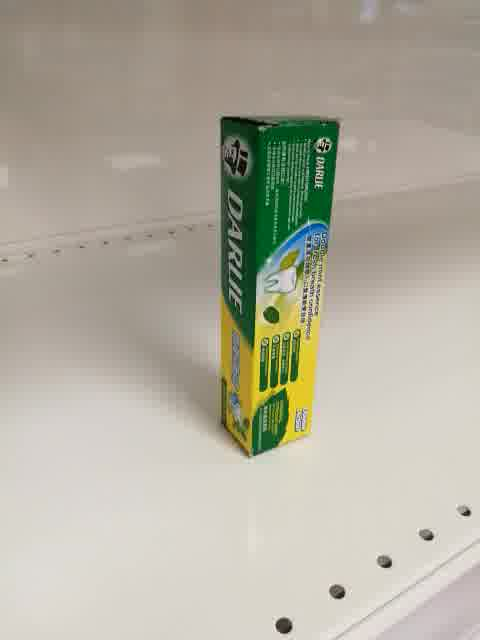toothpaste: (220, 115, 342, 459)
